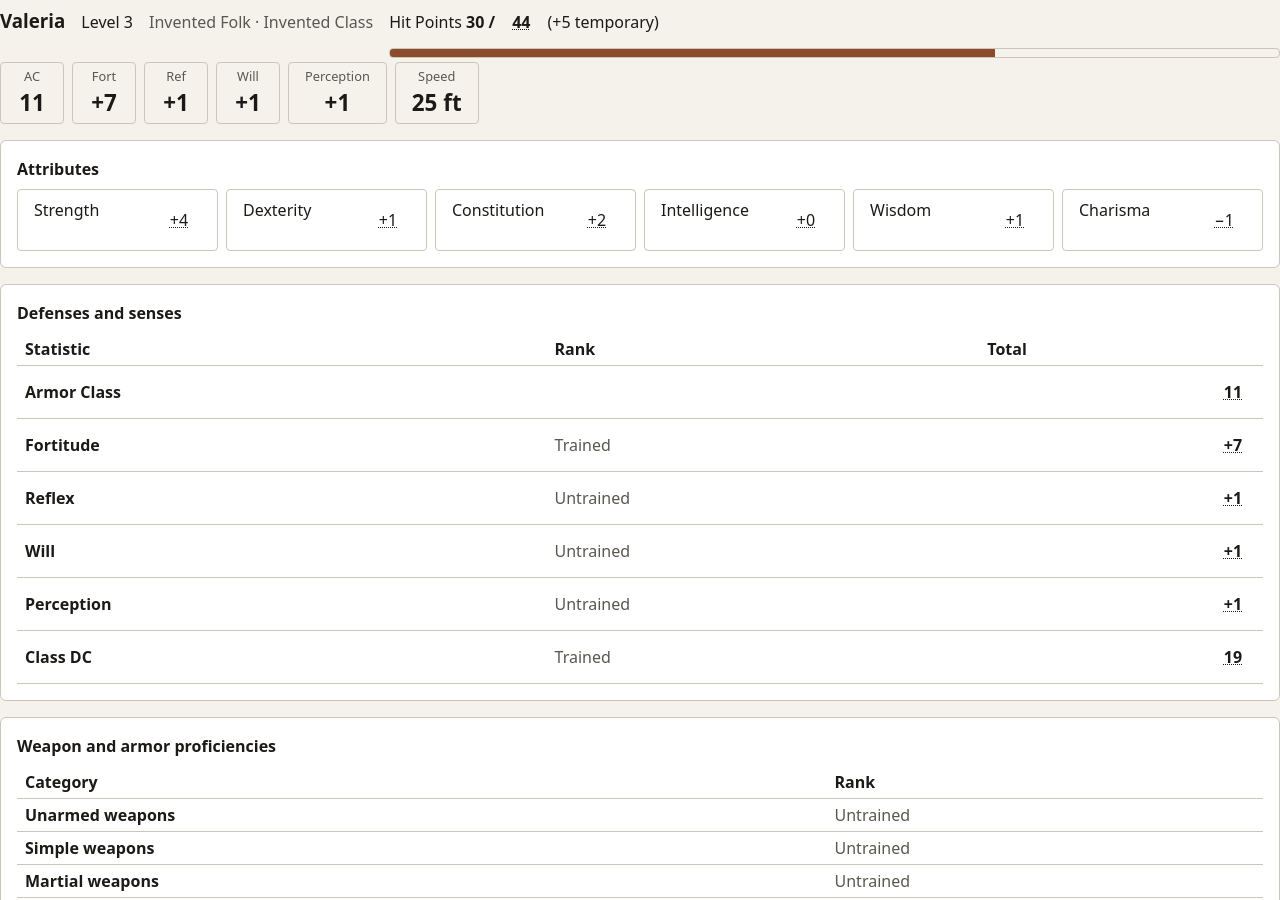
Test: stat breakdowns › opens an attribute’s own breakdown, even though it is just itself
Click the button with class "stat-trigger" showing "+4" at {"x": 179, "y": 220}, box [157,198,201,242]
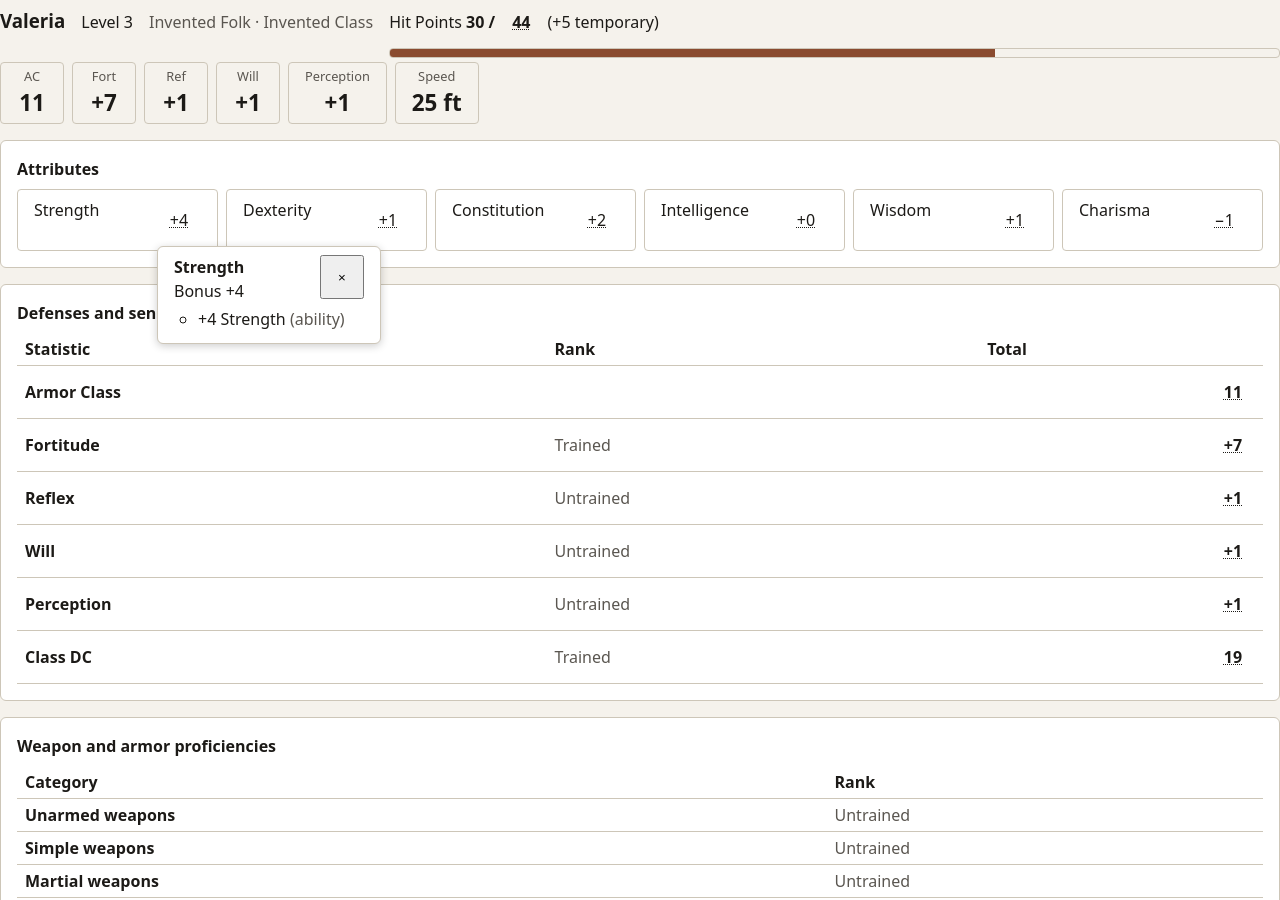
Expected: the heading "Strength" is shown, [174,256,244,278]
Expected: the dialog with class "stat-popover" shows "Bonus +4", [174,280,244,302]
Expected: the dialog with class "stat-popover" shows "+4 Strength", [198,308,290,330]
